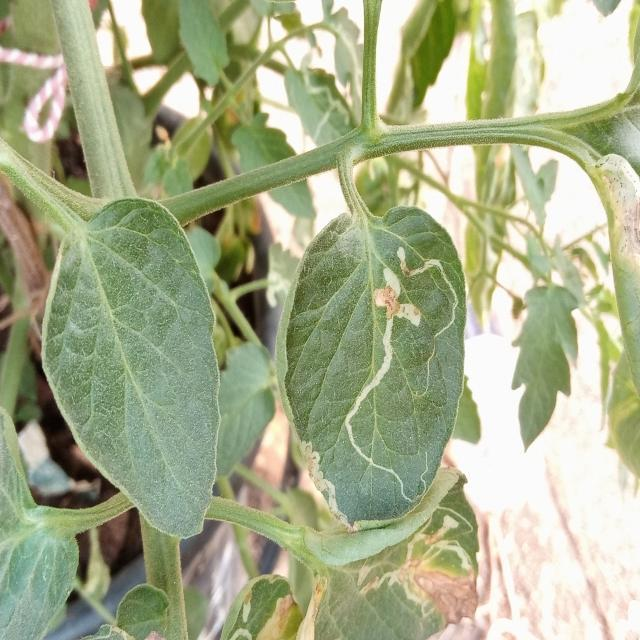Healthy: (31, 193, 230, 547)
Tuta absoluta: (339, 265, 427, 501), (359, 510, 497, 630), (391, 233, 470, 339)
